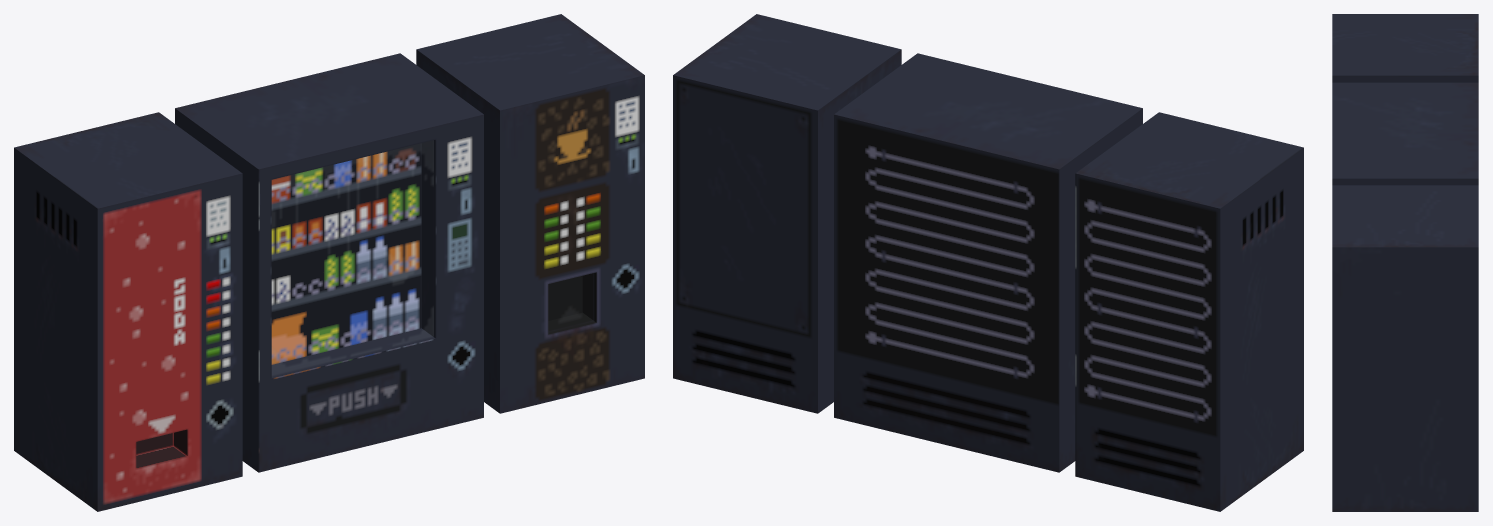
Rendered from vendings.fbx.
3 views of the same model, side by side, from view 1: azimuth 30°, elevation 25°; view 2: azimuth 150°, elevation 25°; view 3: azimuth 270°, elevation 25° (orthographic). The views are drawn at different scales.
Visible parts, largest first — view 1: vending_food_02, vending_soda_01, vending_coffe_03; view 2: vending_food_02, vending_soda_01, vending_coffe_03; view 3: vending_coffe_03, vending_food_02, vending_soda_01.
Part boxes in pixels (x1=…): vending_food_02: x1=175, y1=53, x2=483, y2=472; vending_soda_01: x1=14, y1=112, x2=242, y2=511; vending_coffe_03: x1=416, y1=14, x2=644, y2=413; vending_food_02: x1=834, y1=53, x2=1142, y2=472; vending_soda_01: x1=1075, y1=112, x2=1303, y2=511; vending_coffe_03: x1=673, y1=14, x2=901, y2=413; vending_coffe_03: x1=1332, y1=185, x2=1478, y2=511; vending_food_02: x1=1332, y1=82, x2=1478, y2=185; vending_soda_01: x1=1332, y1=14, x2=1478, y2=82.
Bounding box in the file's own units: 340 × 180 × 90.
